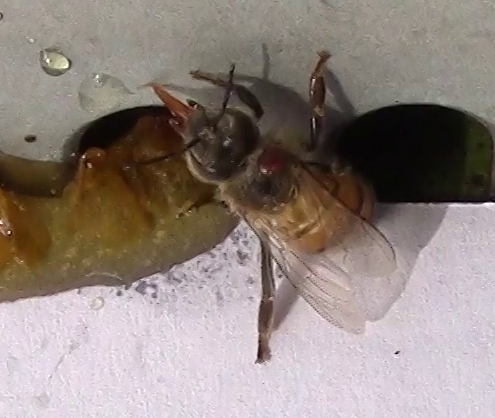Varroa destructor: (255, 146, 287, 176)
